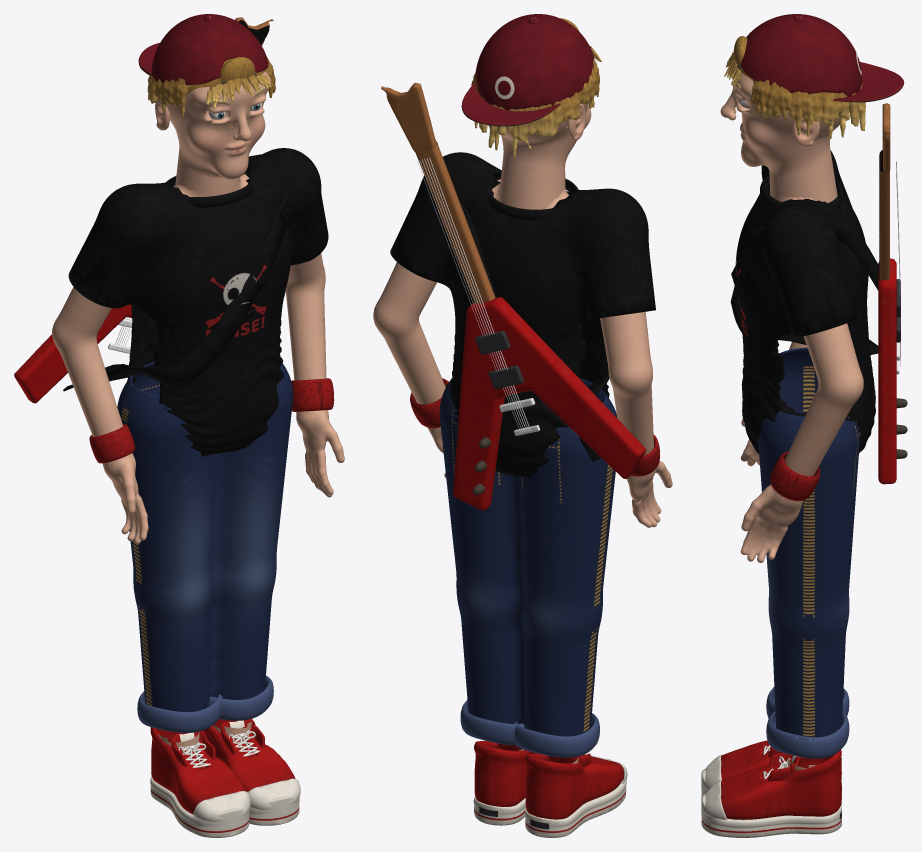
Rendered from enemy_bully_review.glb.
The picture shows the model from 3 angles, left to right: view 1: azimuth 30°, elevation 25°; view 2: azimuth 150°, elevation 25°; view 3: azimuth 270°, elevation 25°; orthographic projection. The views are drawn at different scales.
Visible parts, largest first — view 1: Bully_Tee, Bully_Jeans, Bully_Body, Bully_Head, Bully_Cap, Bully_Strap, Bully_Shoe0_Upper, Bully_Shoe1_Upper, Bully_GuitarBody, Bully_Hand1, Bully_HairMass, Bully_Hand0 (+12 smaller); view 2: Bully_Jeans, Bully_Tee, Bully_GuitarBody, Bully_Body, Bully_Cap, Bully_GuitarNeck, Bully_Head, Bully_Shoe0_Upper, Bully_Shoe1_Upper, Bully_HairMass, Bully_Shoe0_Sole, Bully_Cuff0 (+10 smaller); view 3: Bully_Jeans, Bully_Tee, Bully_Cap, Bully_Body, Bully_Head, Bully_Shoe1_Upper, Bully_GuitarBody, Bully_HairMass, Bully_Hand1, Bully_Shoe1_Sole, Bully_Strap, Bully_Cuff1 (+9 smaller).
Part boxes in pixels (left/top/right/bottom): Bully_Tee: left=68, top=148, right=328, bottom=456; Bully_Jeans: left=117, top=362, right=293, bottom=711; Bully_Body: left=52, top=174, right=326, bottom=753; Bully_Head: left=167, top=71, right=271, bottom=192; Bully_Cap: left=151, top=14, right=268, bottom=84; Bully_Strap: left=63, top=154, right=288, bottom=391; Bully_Shoe0_Upper: left=150, top=727, right=245, bottom=814; Bully_Shoe1_Upper: left=203, top=719, right=295, bottom=791; Bully_GuitarBody: left=14, top=304, right=131, bottom=403; Bully_Hand1: left=296, top=410, right=344, bottom=497; Bully_HairMass: left=147, top=57, right=275, bottom=118; Bully_Hand0: left=102, top=453, right=148, bottom=544; Bully_Jeans: left=439, top=378, right=617, bottom=736; Bully_Tee: left=390, top=152, right=655, bottom=477; Bully_GuitarBody: left=453, top=297, right=646, bottom=510; Bully_Body: left=373, top=179, right=653, bottom=763; Bully_Cap: left=475, top=14, right=594, bottom=110; Bully_GuitarNeck: left=381, top=82, right=495, bottom=303; Bully_Head: left=499, top=59, right=597, bottom=209; Bully_Shoe0_Upper: left=525, top=753, right=623, bottom=819; Bully_Shoe1_Upper: left=474, top=741, right=530, bottom=806; Bully_HairMass: left=471, top=18, right=599, bottom=158; Bully_Shoe0_Sole: left=525, top=758, right=626, bottom=837; Bully_Cuff0: left=514, top=713, right=599, bottom=757; Bully_Jeans: left=758, top=347, right=860, bottom=737; Bully_Tee: left=735, top=150, right=875, bottom=453; Bully_Cap: left=741, top=14, right=861, bottom=96; Bully_Body: left=769, top=171, right=863, bottom=770; Bully_Head: left=720, top=67, right=849, bottom=203; Bully_Shoe1_Upper: left=720, top=750, right=841, bottom=819; Bully_GuitarBody: left=878, top=258, right=896, bottom=484; Bully_HairMass: left=733, top=36, right=865, bottom=138; Bully_Hand1: left=740, top=484, right=802, bottom=562; Bully_Shoe1_Sole: left=701, top=794, right=841, bottom=837; Bully_Strap: left=730, top=218, right=879, bottom=354; Bully_Cuff1: left=766, top=711, right=849, bottom=758.
Bounding box in the file's own units: 0.5821 × 1.53 × 0.3583.
Materials: 32 (23 with a texture image).
